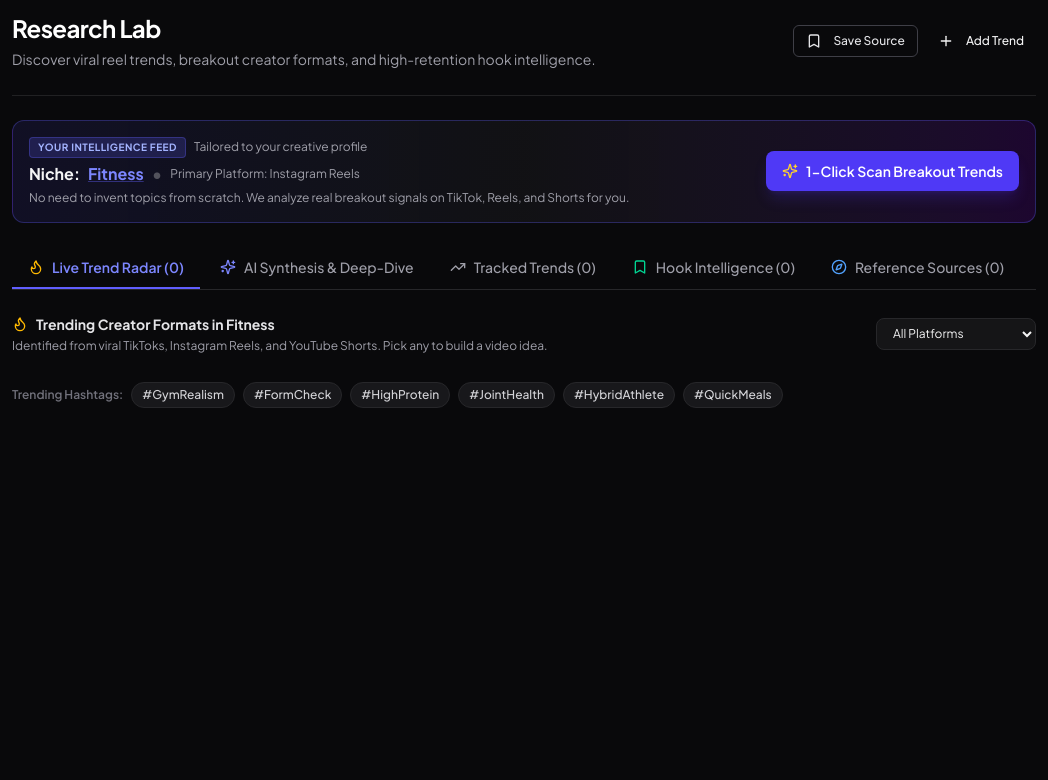
Test: V2 Feature Component Tests › 2. Research Lab Feature › navigates to Hook Intelligence tab and displays curated hooks with copy action
Note: Click Hook Intelligence tab
Click the button "Hook Intelligence (0)" at [713, 268], box top-left (616, 247), bottom-right (811, 289)
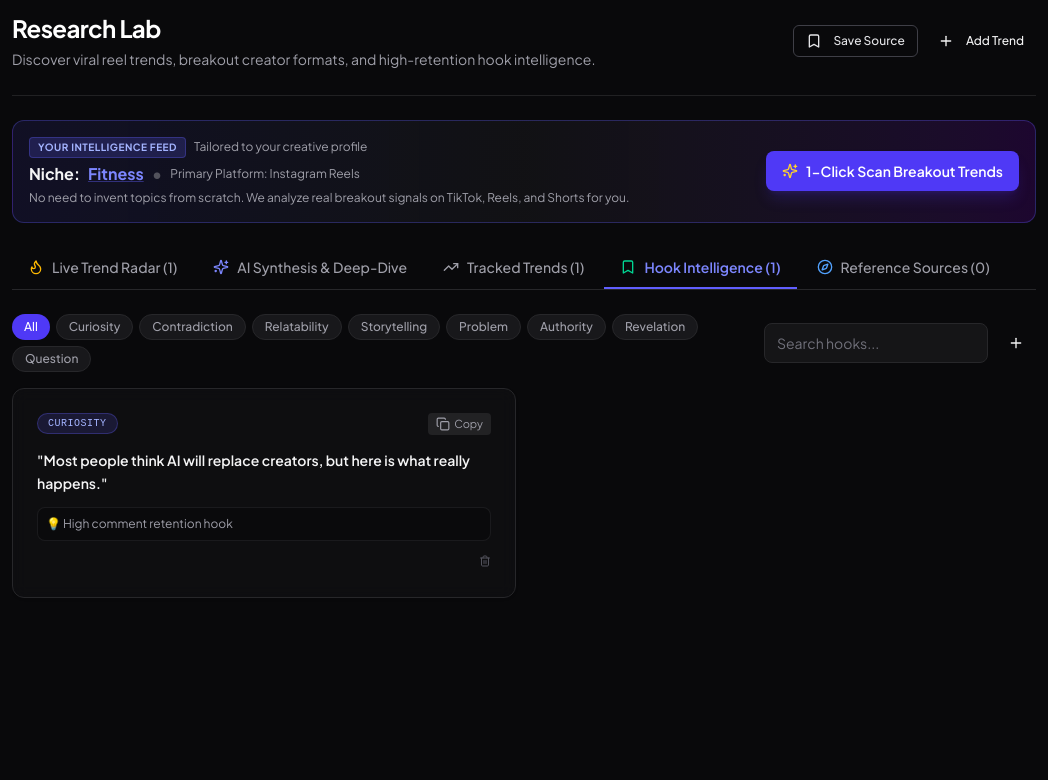
Expected: the text "\"Most people think AI will replace creators, but here is what really happens.\"" is shown, top-left (37, 449), bottom-right (491, 495)
Expected: the button "Copy" is shown, top-left (428, 413), bottom-right (491, 436)
